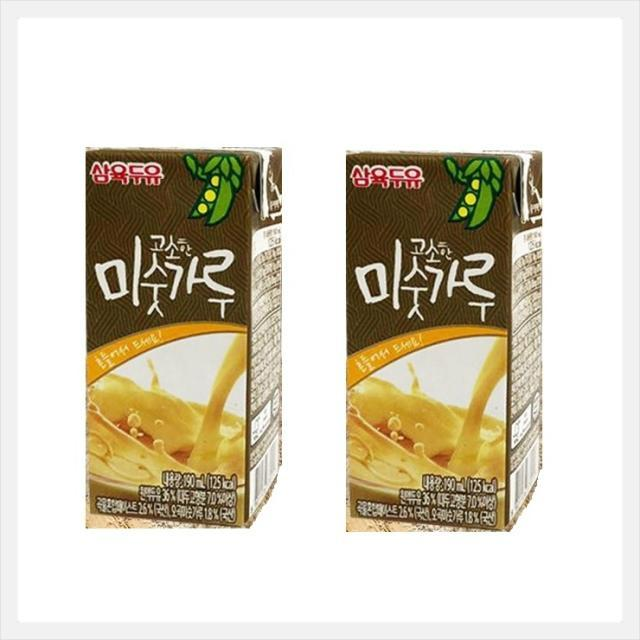Tetra: (66, 128, 309, 550), (338, 136, 552, 560)
